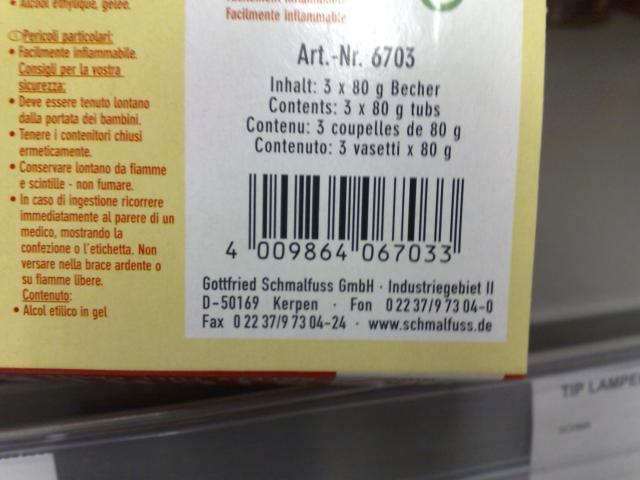Barcode: (215, 158, 486, 274)
